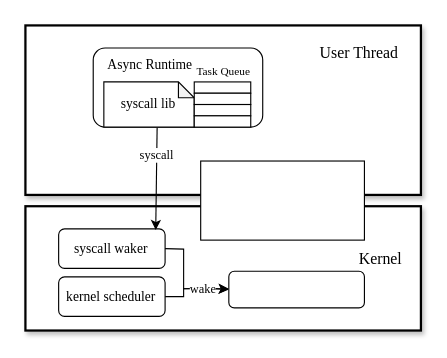
Image size: 447x358. Some labels were removed from this diagram. The shapes that lost their labels are listed below. From the top down, each one's centre as x and y in pixels, then its label:
At point 282,200: "shared memory".
At point 296,289: "async fn req_ dispatcher (buf)".
